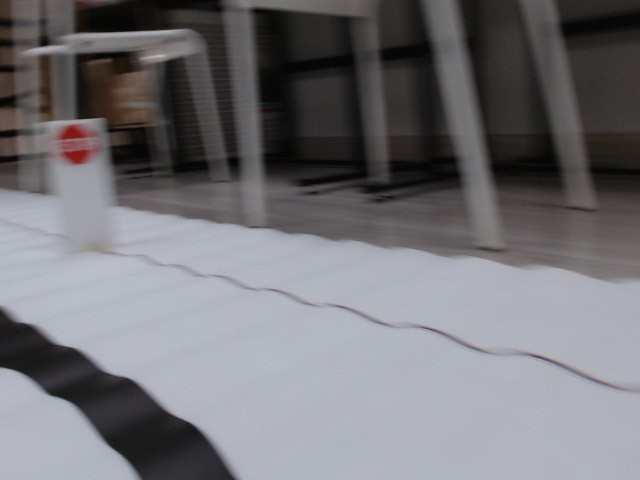Stop: (58, 123, 103, 167)
